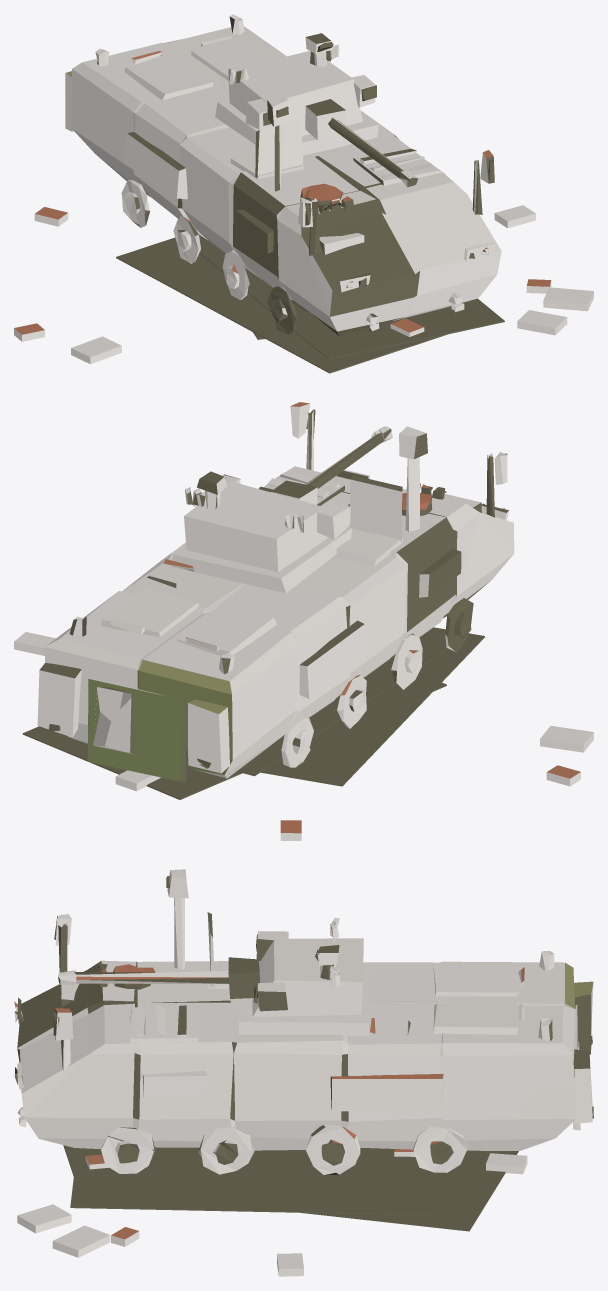
Rendered from SM_RestosDragon_v0_LOD0.fbx.
3 renders of one model, top to bottom at view 1: azimuth 30°, elevation 25°; view 2: azimuth 150°, elevation 25°; view 3: azimuth 270°, elevation 25°, orthographic. The views are drawn at different scales.
Visible parts, largest first — view 1: SM_bloques.restos_dragon_v0_LOD0; view 2: SM_bloques.restos_dragon_v0_LOD0; view 3: SM_bloques.restos_dragon_v0_LOD0.
Boxes of the visible parts, box(x1,y1,x2,y2) form: SM_bloques.restos_dragon_v0_LOD0: box(14, 14, 593, 373); SM_bloques.restos_dragon_v0_LOD0: box(14, 402, 593, 840); SM_bloques.restos_dragon_v0_LOD0: box(14, 869, 593, 1276).
Bounding box in the file's own units: 9.06 × 3.91 × 8.36.
